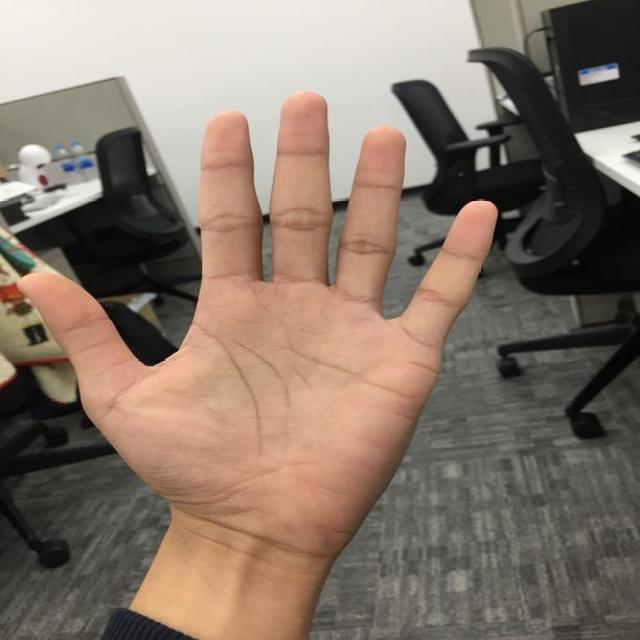hand: (20, 92, 497, 551)
